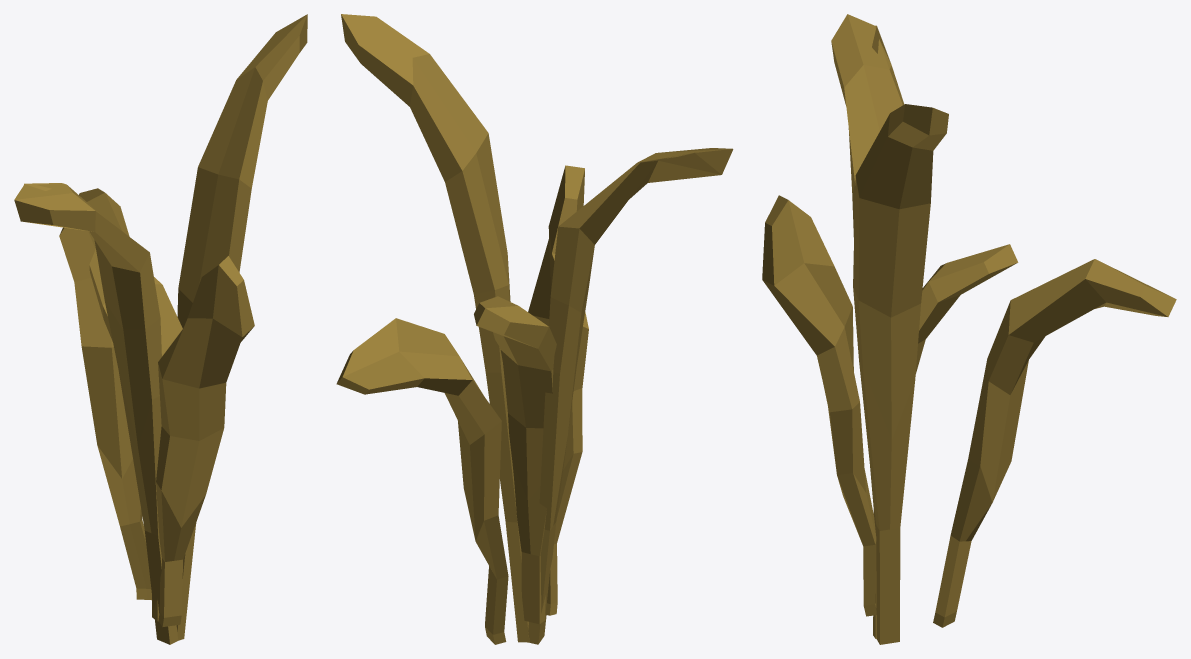
Rendered from grass.fbx.
The picture shows the model from 3 angles, left to right: view 1: azimuth 30°, elevation 25°; view 2: azimuth 150°, elevation 25°; view 3: azimuth 270°, elevation 25°; orthographic projection. The views are drawn at different scales.
Visible parts, largest first — view 1: Cube; view 2: Cube; view 3: Cube.
Part boxes in pixels (<box>): Cube: <box>14,14,307,644</box>; Cube: <box>336,14,733,644</box>; Cube: <box>762,14,1176,644</box>.
Size of the model in its own units: 259 by 423 by 259.
